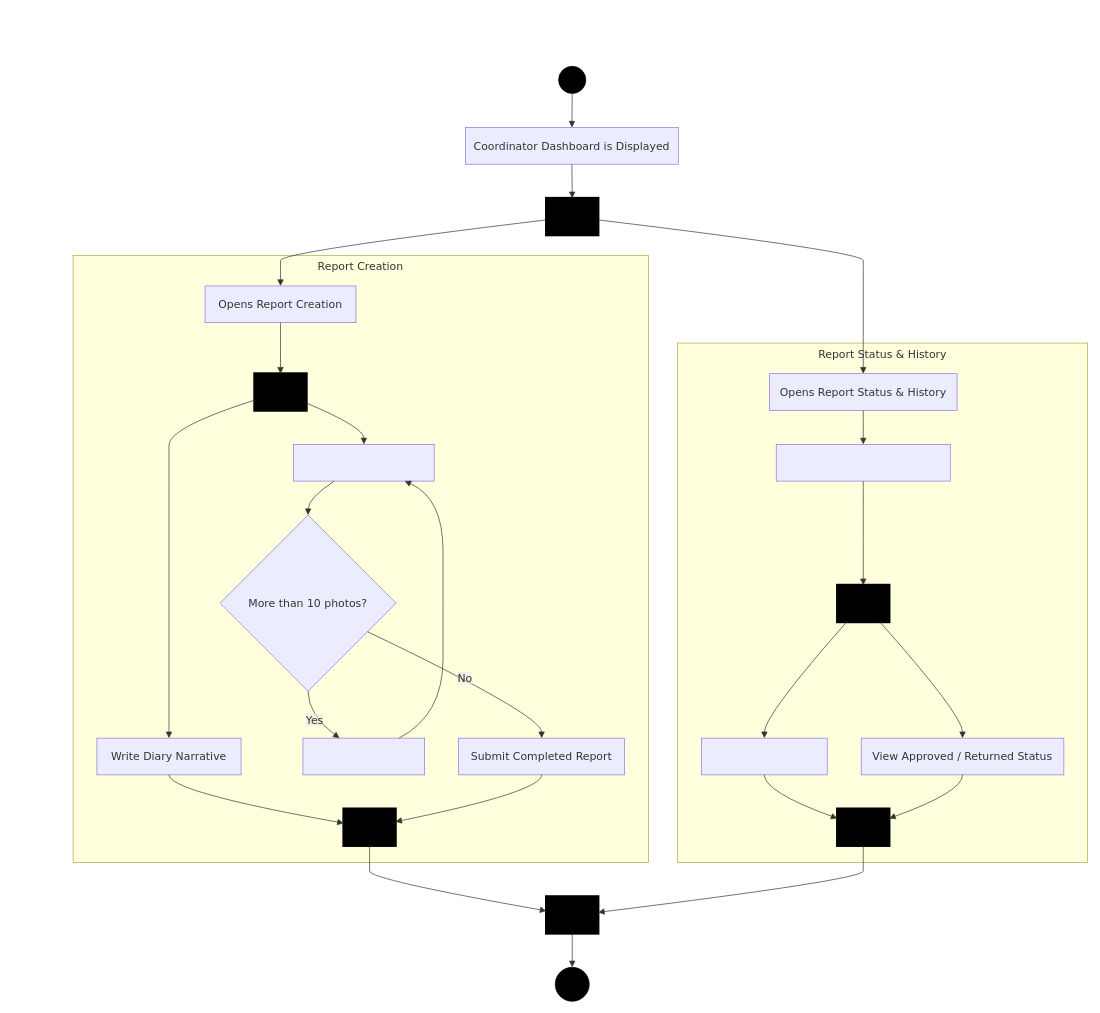
Image size: 1100x1013. Some labels were removed from this diagram. Each missing label, with the centre of its shape:
Filter by Semester or Event: (x=863, y=462)
Show Limit Error: (x=363, y=756)
Upload Event Photos: (x=363, y=462)
View Draft Status: (x=764, y=756)
